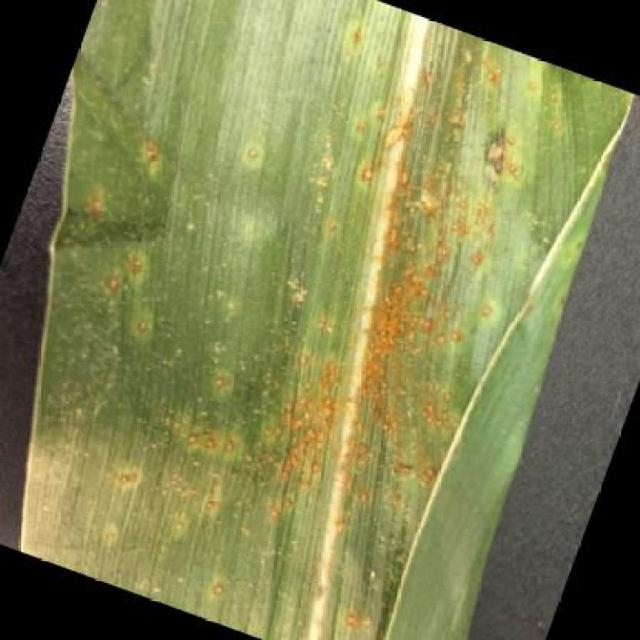Corn_Rust: (138, 55, 537, 594)
